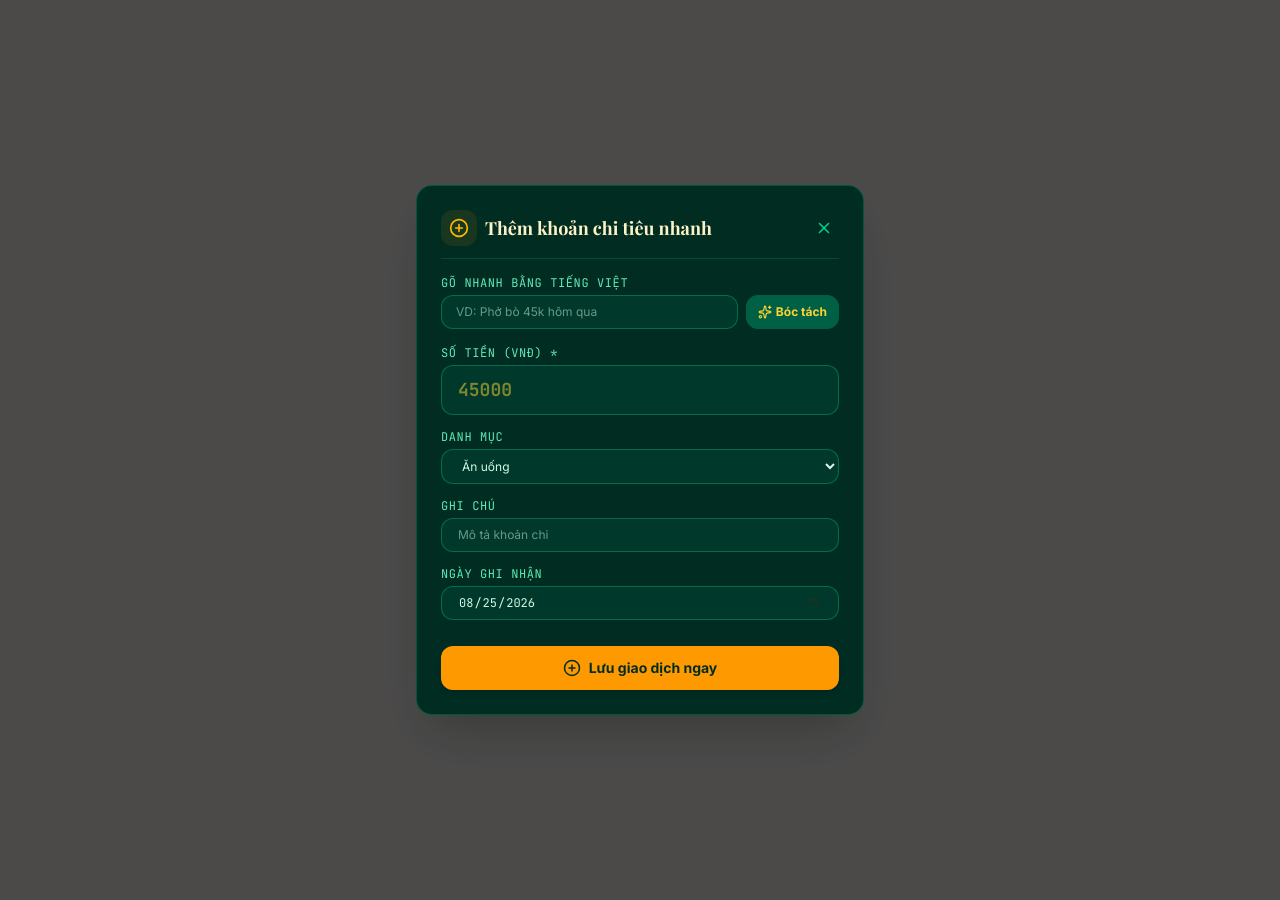
Test: Frontend Component Tests › QuickAddExpenseModal Component › should parse natural text into amount and note
The image size is (1280, 900).
Step 1. Type "Ăn sáng 45k phở" into the field with placeholder "VD: Phở bò 45k hôm qua" → {"x": 589, "y": 312}, box [441,295,738,329]
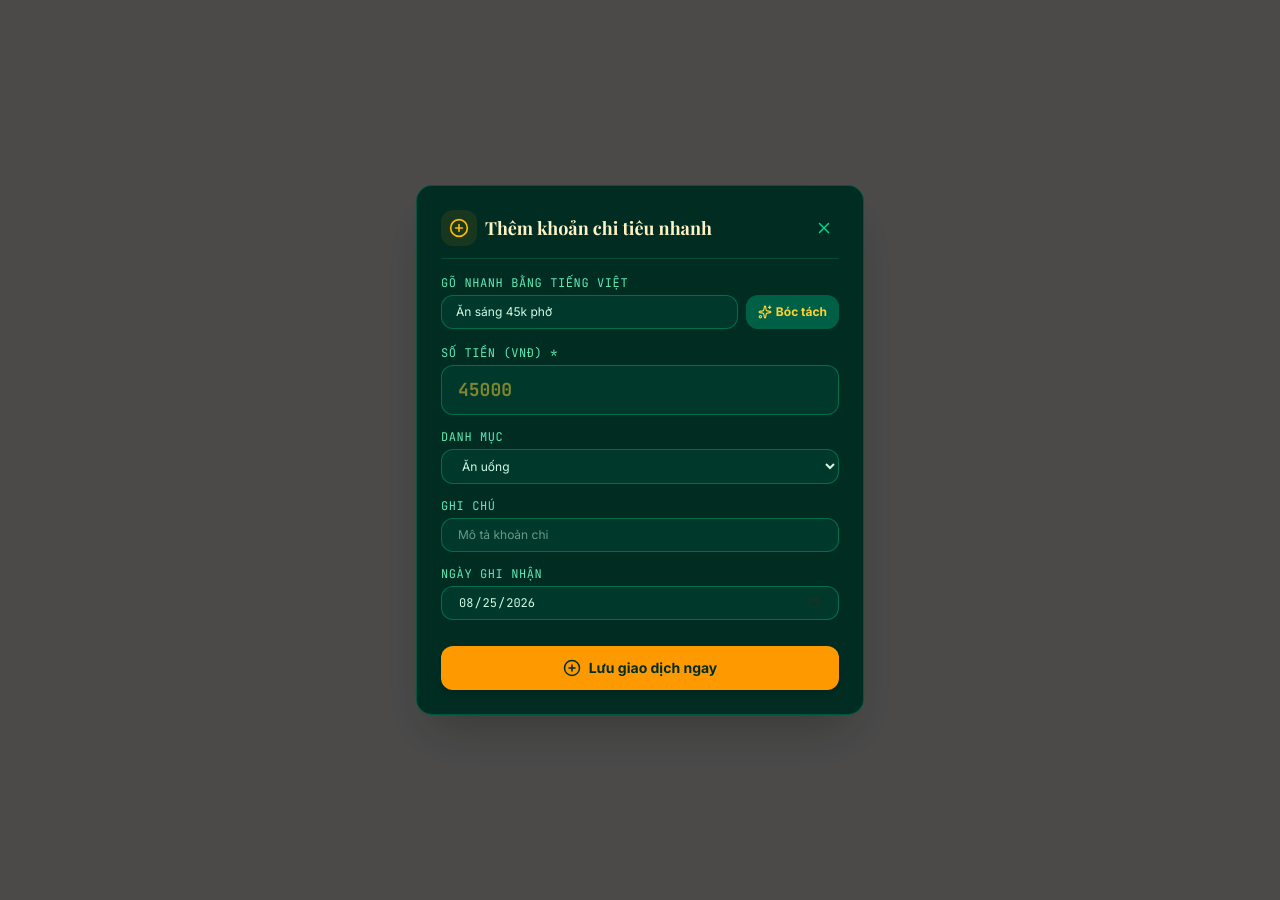
Step 2. Click the button "Bóc tách" → {"x": 792, "y": 312}, box [746,295,839,329]
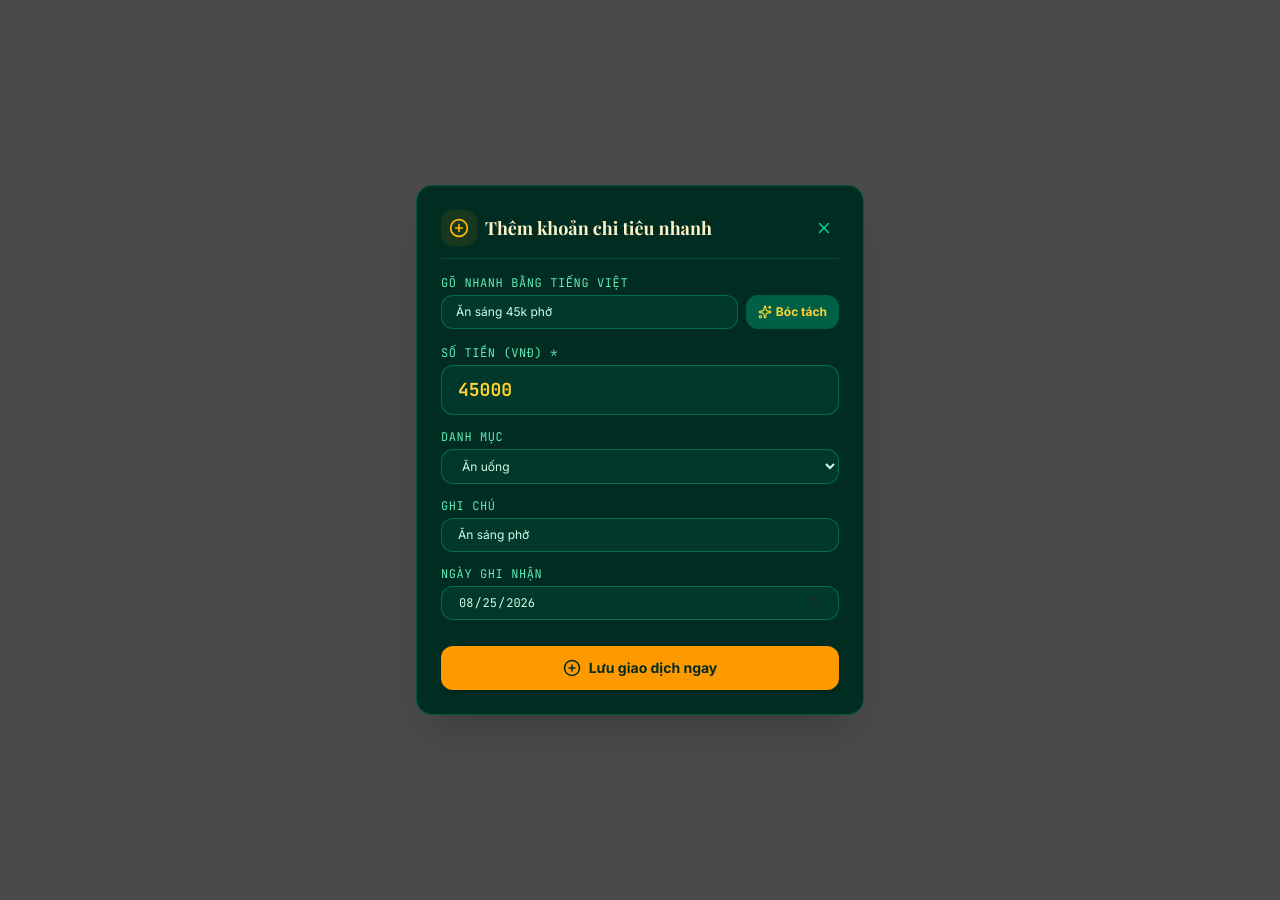
Result: the number field with placeholder "45000" holds "45000" at [441,365,839,415]
